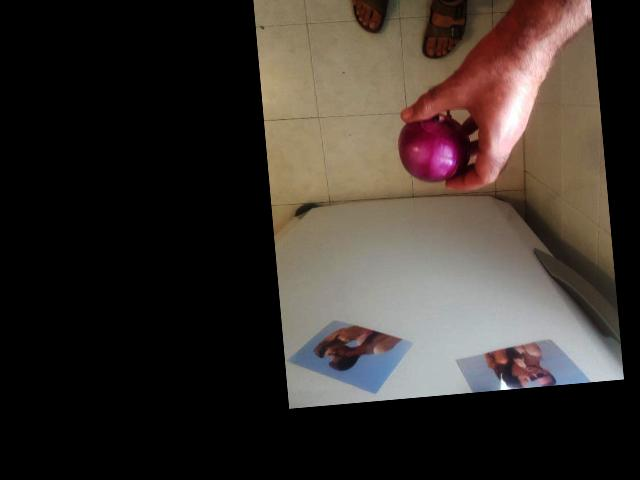onion: (393, 108, 479, 183)
